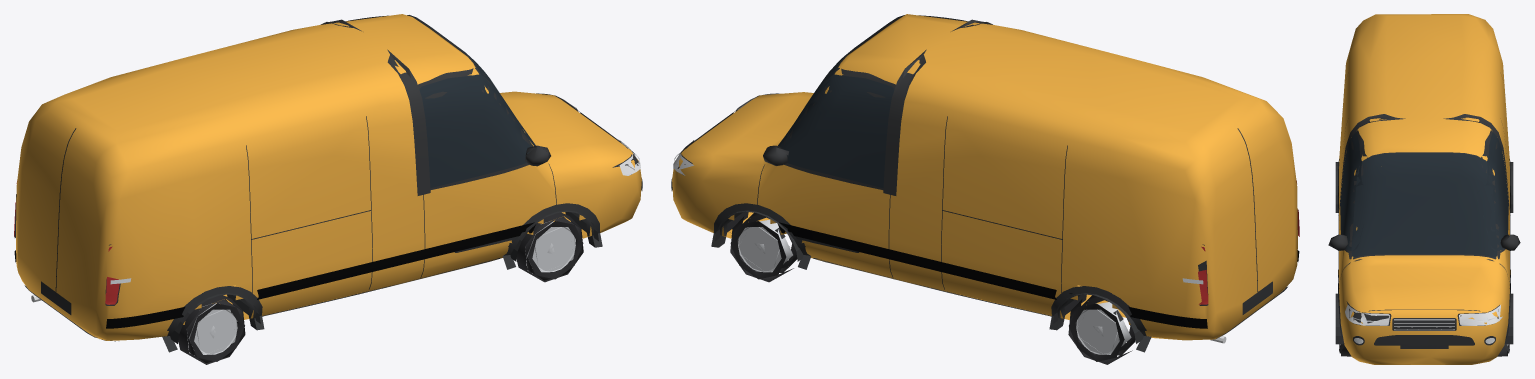
The model's file is pro_btp_far.glb.
The picture shows the model from 3 angles, left to right: view 1: azimuth 30°, elevation 25°; view 2: azimuth 150°, elevation 25°; view 3: azimuth 270°, elevation 25°; orthographic projection. The views are drawn at different scales.
Parts seen in each view (by area): view 1: Body, Glass-1, ProStripe-1, WheelRR, WheelFR, Bpillar-1, ArchTrim-1.001, ArchTrim-1, WinFrame-1, ArchLiner.003, ArchLiner.001; view 2: Body, Glass1, ProStripe1, WheelRL, WheelFL, Bpillar1, ArchTrim1.001, ArchTrim1, WinFrame1, ArchLiner.002, ArchLiner; view 3: Body, Windshield, Glass1, Glass-1, Intake, HeadReflector, Grille, WsFrame, HeadBezel, Bpillar-1, Bpillar1, ArchLiner (+8 smaller).
Boxes of the visible parts, bbox=[...] form: Body: bbox=[16, 14, 641, 340]; Glass-1: bbox=[419, 74, 535, 188]; ProStripe-1: bbox=[106, 222, 535, 328]; WheelRR: bbox=[178, 295, 245, 364]; WheelFR: bbox=[516, 212, 583, 282]; Bpillar-1: bbox=[387, 49, 430, 195]; ArchTrim-1.001: bbox=[162, 286, 264, 352]; ArchTrim-1: bbox=[502, 203, 602, 269]; WinFrame-1: bbox=[418, 68, 532, 189]; ArchLiner.003: bbox=[170, 293, 260, 343]; ArchLiner.001: bbox=[509, 210, 598, 261]; Body: bbox=[672, 14, 1297, 340]; Glass1: bbox=[778, 74, 894, 187]; ProStripe1: bbox=[778, 222, 1207, 328]; WheelRL: bbox=[1068, 295, 1135, 364]; WheelFL: bbox=[730, 212, 797, 282]; Bpillar1: bbox=[883, 49, 926, 195]; ArchTrim1.001: bbox=[1049, 286, 1151, 352]; ArchTrim1: bbox=[711, 203, 811, 269]; WinFrame1: bbox=[784, 68, 895, 189]; ArchLiner.002: bbox=[1053, 293, 1143, 343]; ArchLiner: bbox=[715, 210, 804, 261]; Body: bbox=[1338, 14, 1510, 364]; Windshield: bbox=[1351, 153, 1497, 257]; Glass1: bbox=[1476, 132, 1508, 250]; Glass-1: bbox=[1340, 132, 1363, 250]; Intake: bbox=[1374, 335, 1474, 345]; HeadReflector: bbox=[1345, 305, 1502, 325]; Grille: bbox=[1392, 318, 1456, 330]; WsFrame: bbox=[1348, 152, 1500, 259]; HeadBezel: bbox=[1346, 301, 1499, 325]; Bpillar-1: bbox=[1339, 114, 1405, 209]; Bpillar1: bbox=[1443, 114, 1509, 209]; ArchLiner: bbox=[1505, 293, 1513, 344].
Size of the model in its own units: 5.62 by 2.29 by 2.15.
